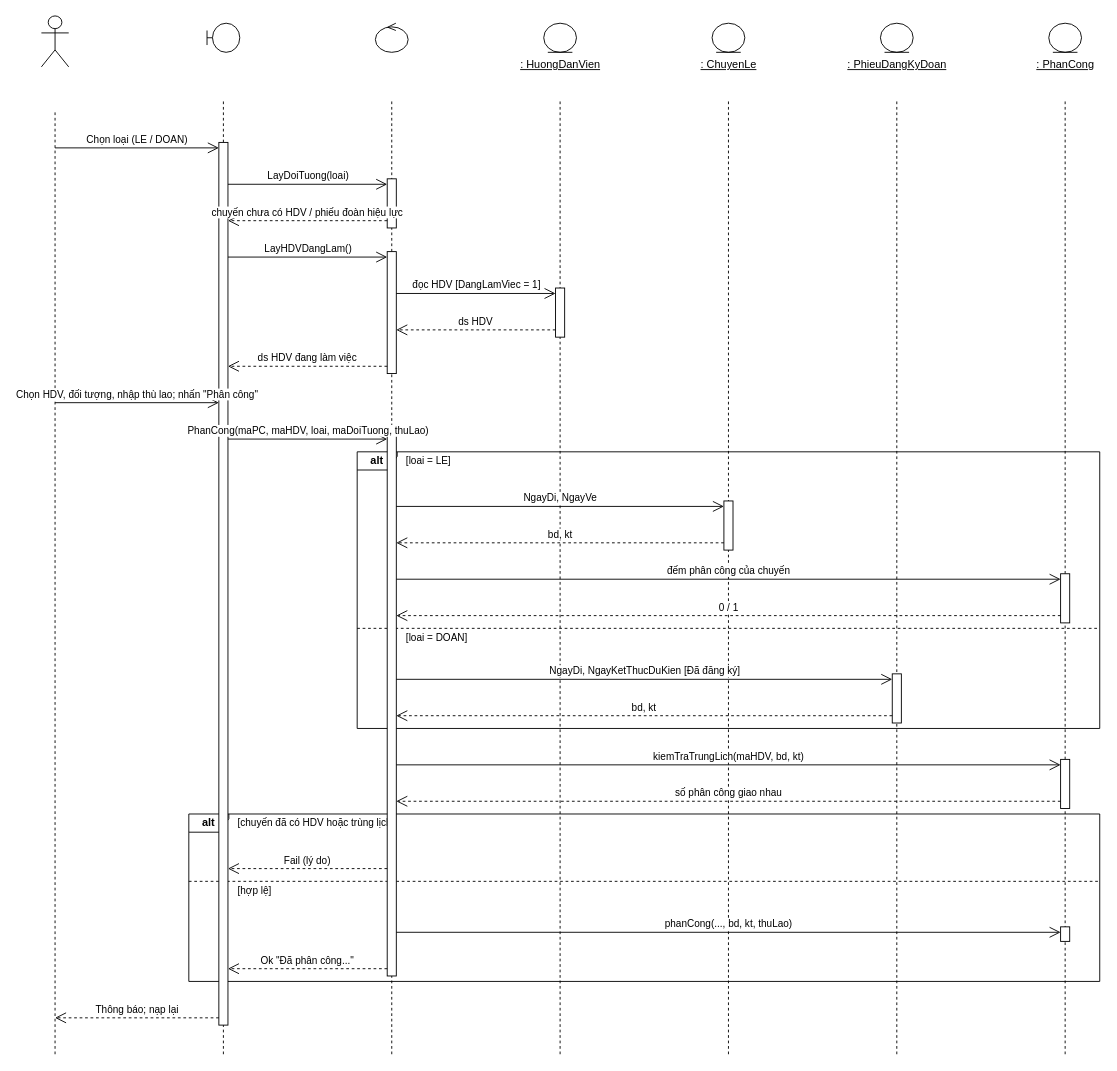
Image size: 1117x1071. Some labels were removed from this diagram. The centre of each missing label's shape, as x and y in pixels:
": FrmPhanCongHDV" goes at point (223, 37).
": NV điều hành" goes at point (54, 41).
": PhanCongService" goes at point (391, 37).
